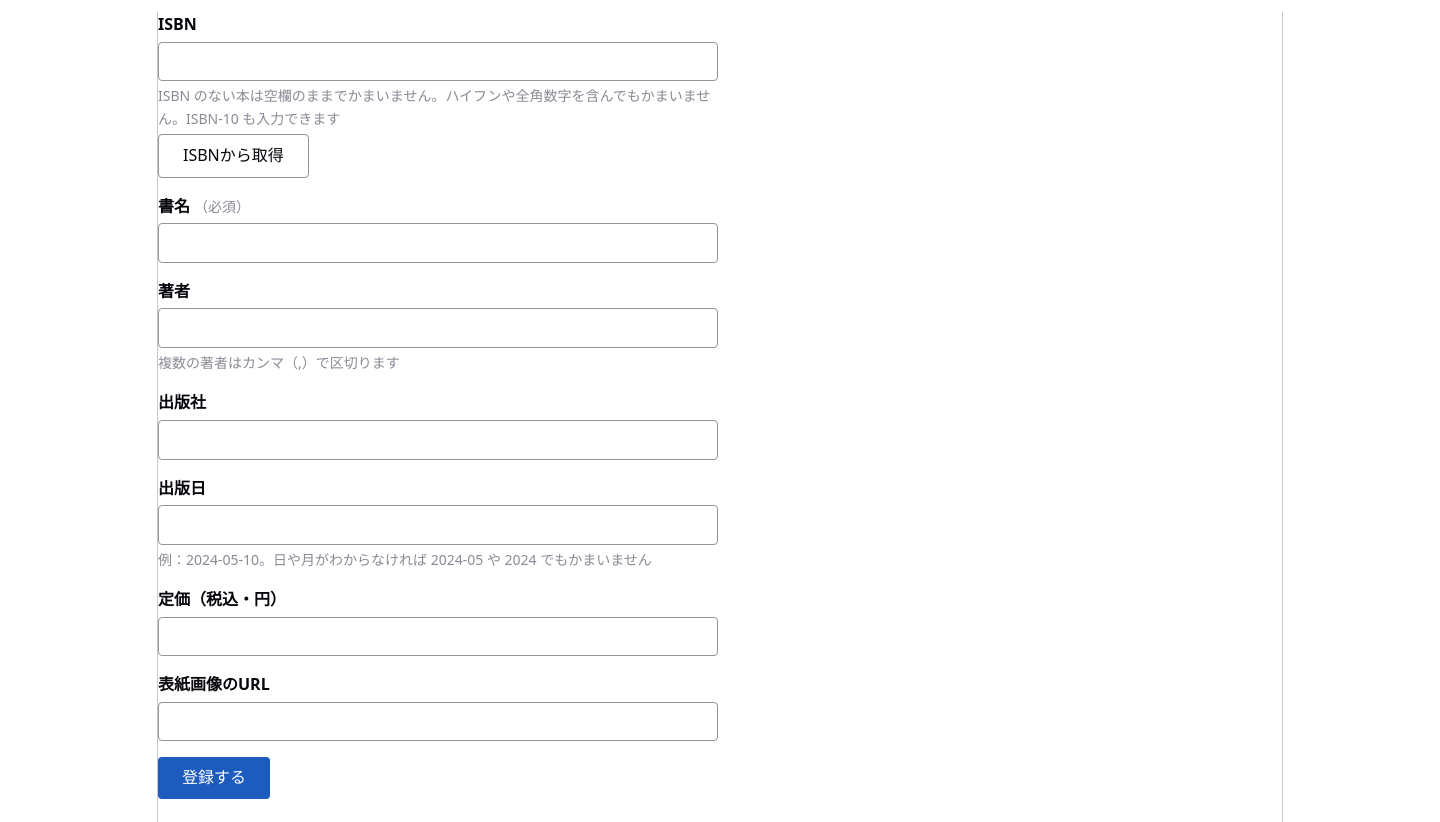
BookForm の ISBNからの取得 › 送信中は取得できない
The width and height of the screenshot is (1440, 822).
Type "テスト書籍" into the field labelled "書名（必須）". click: (438, 243)
box: [158,223,718,263]
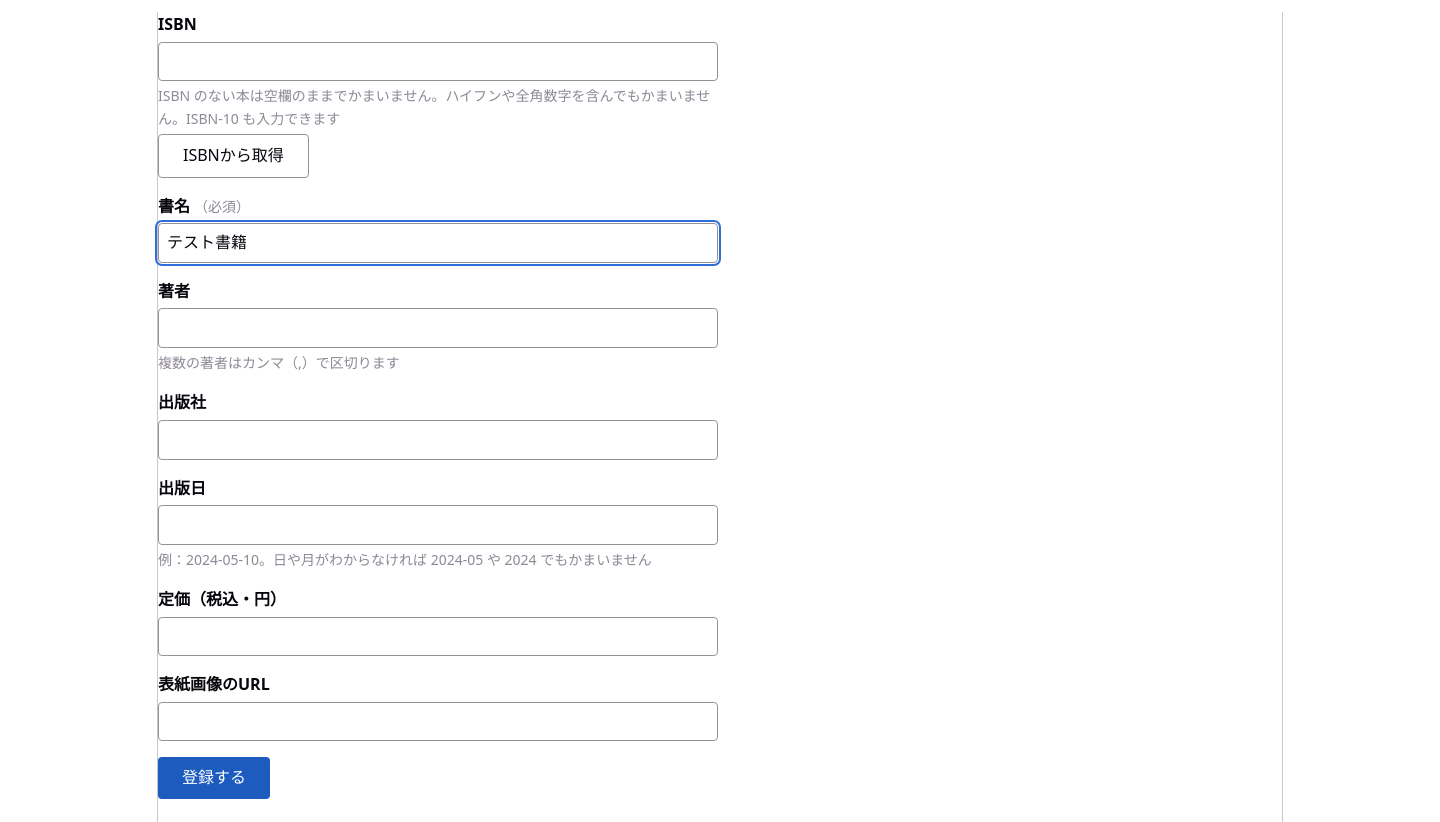
Click the button "登録する". click: (214, 778)
box: [158,758,270,799]
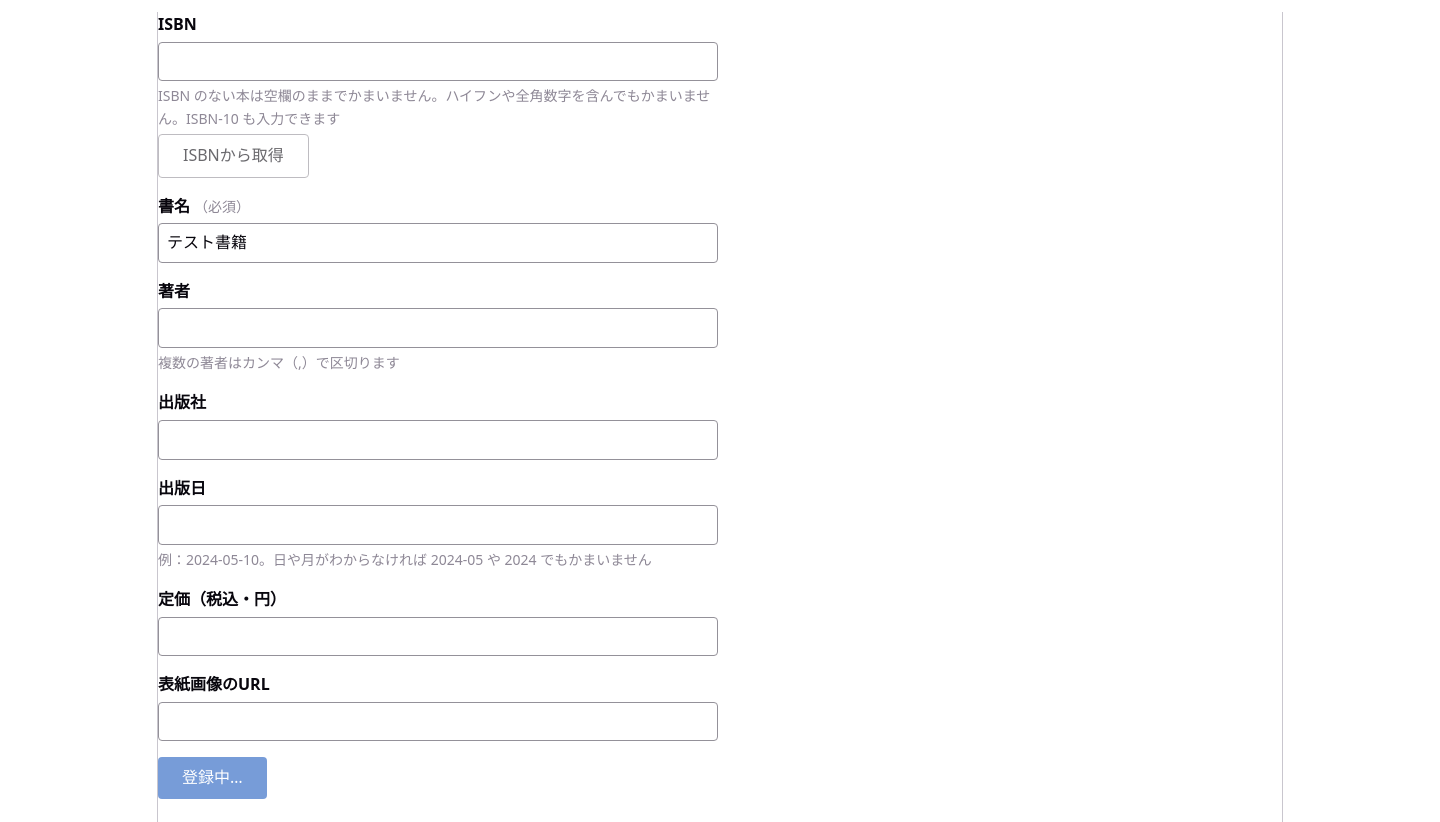
Now the button "ISBNから取得" is disabled, box [158,134,309,178]
